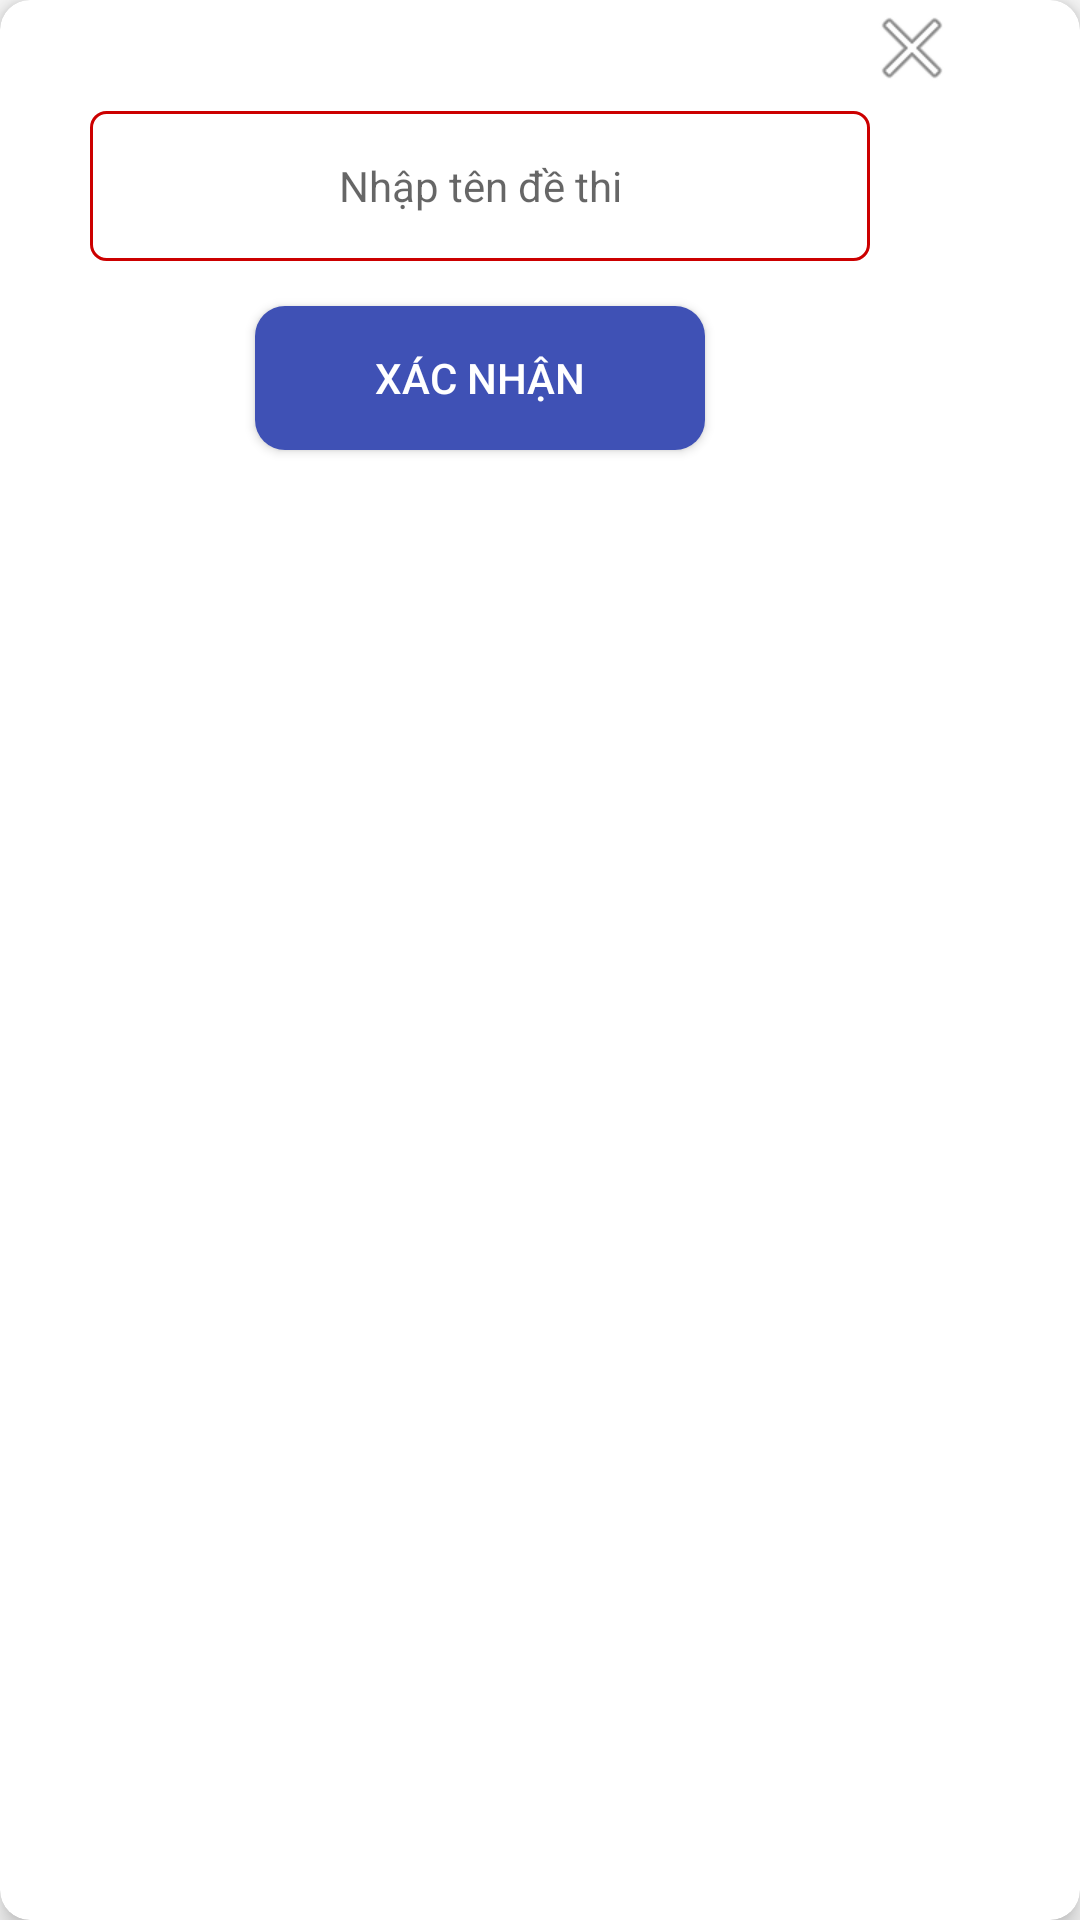

Locate icon controls on the screen. Image size 1080px x 1920px, boxes as region(x1, y1, x2, y2).
close clear cancel: region(882, 18, 942, 78)
